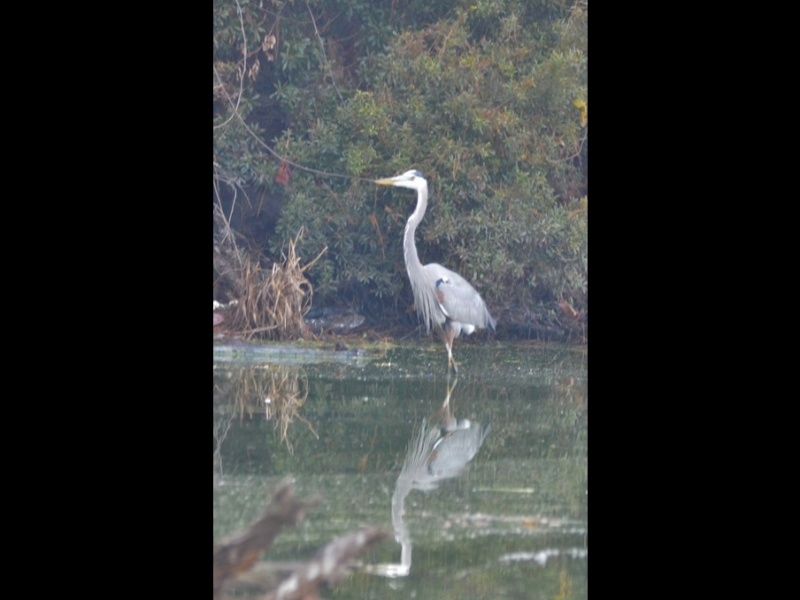heron: (372, 165, 499, 364)
